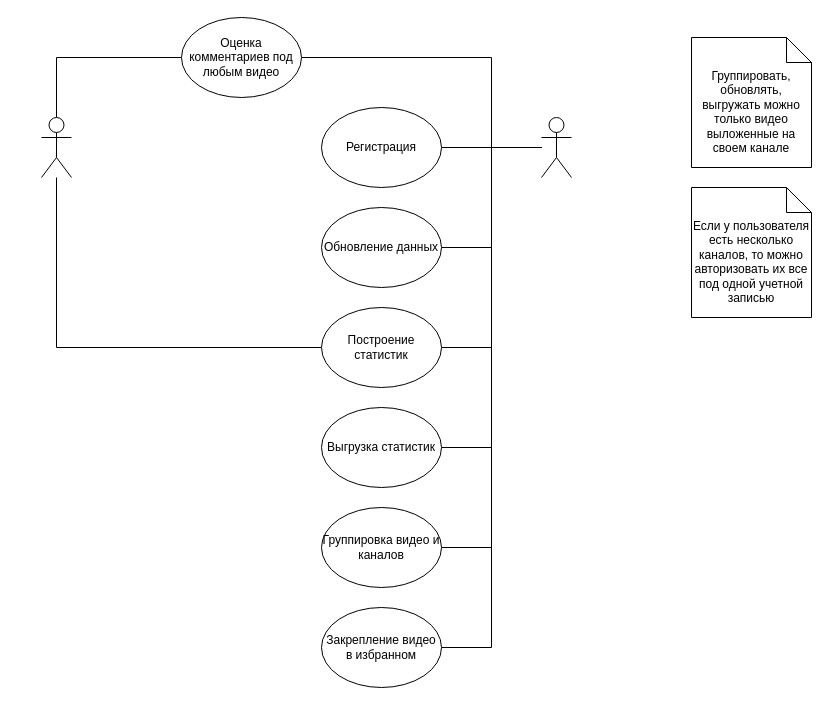
This 829x705 diagram has some shape labels left out. The shapes that lost their labels are listed below. From the top down, each one's centre as x and y in pixels, then its label:
At (x=56, y=147): "Пользователь".
At (x=556, y=147): "Владелец канала".
